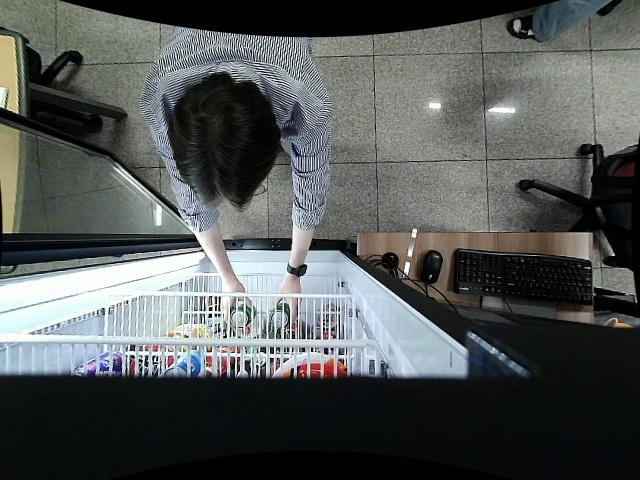00_hand: (215, 284, 255, 320), (277, 278, 303, 319)
12_chilsungCider: (228, 296, 257, 328), (272, 303, 293, 328)
